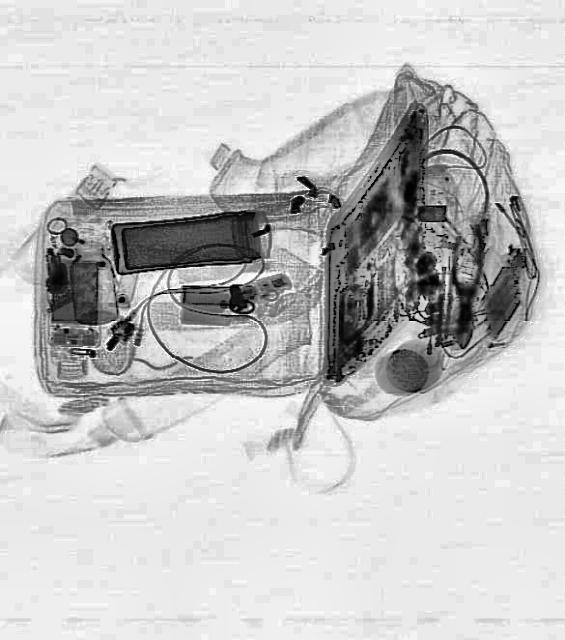Pliers: (445, 226, 485, 346)
